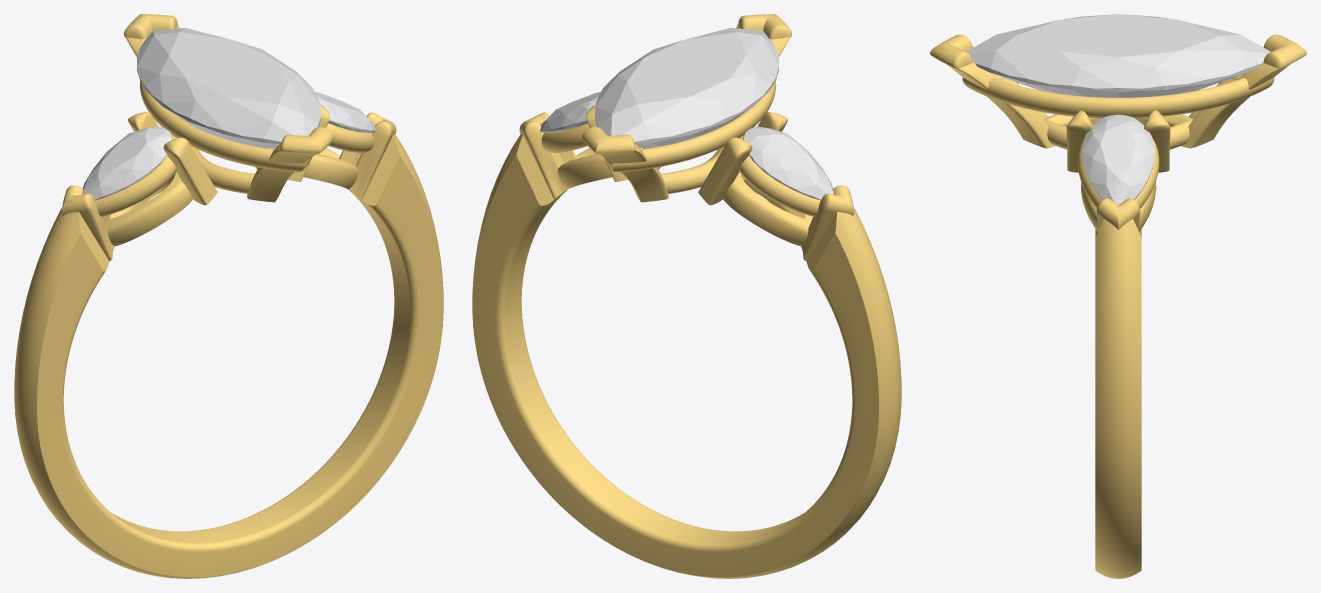
Rendered from JustinYGv6_blender.glb.
3 renders of one model, left to right at view 1: azimuth 30°, elevation 25°; view 2: azimuth 150°, elevation 25°; view 3: azimuth 270°, elevation 25°, orthographic. The views are drawn at different scales.
Parts seen in each view (by area): view 1: V6 YG for 3d model, Justin marquise dia for 3d model, NEW Justin dia for 3d model.001, NEW Justin dia for 3d model; view 2: V6 YG for 3d model, Justin marquise dia for 3d model, NEW Justin dia for 3d model.001, NEW Justin dia for 3d model; view 3: V6 YG for 3d model, Justin marquise dia for 3d model, NEW Justin dia for 3d model.
Boxes of the visible parts, box(x1,y1,x2,y2) form: V6 YG for 3d model: box(14, 14, 443, 578); Justin marquise dia for 3d model: box(137, 28, 320, 148); NEW Justin dia for 3d model.001: box(82, 126, 172, 200); NEW Justin dia for 3d model: box(315, 92, 375, 132); V6 YG for 3d model: box(472, 14, 901, 578); Justin marquise dia for 3d model: box(595, 28, 778, 148); NEW Justin dia for 3d model.001: box(743, 126, 833, 200); NEW Justin dia for 3d model: box(540, 92, 600, 132); V6 YG for 3d model: box(930, 34, 1306, 578); Justin marquise dia for 3d model: box(966, 14, 1270, 97); NEW Justin dia for 3d model: box(1082, 114, 1154, 204).
Size of the model in its own units: 20.72 by 23.65 by 15.53.
